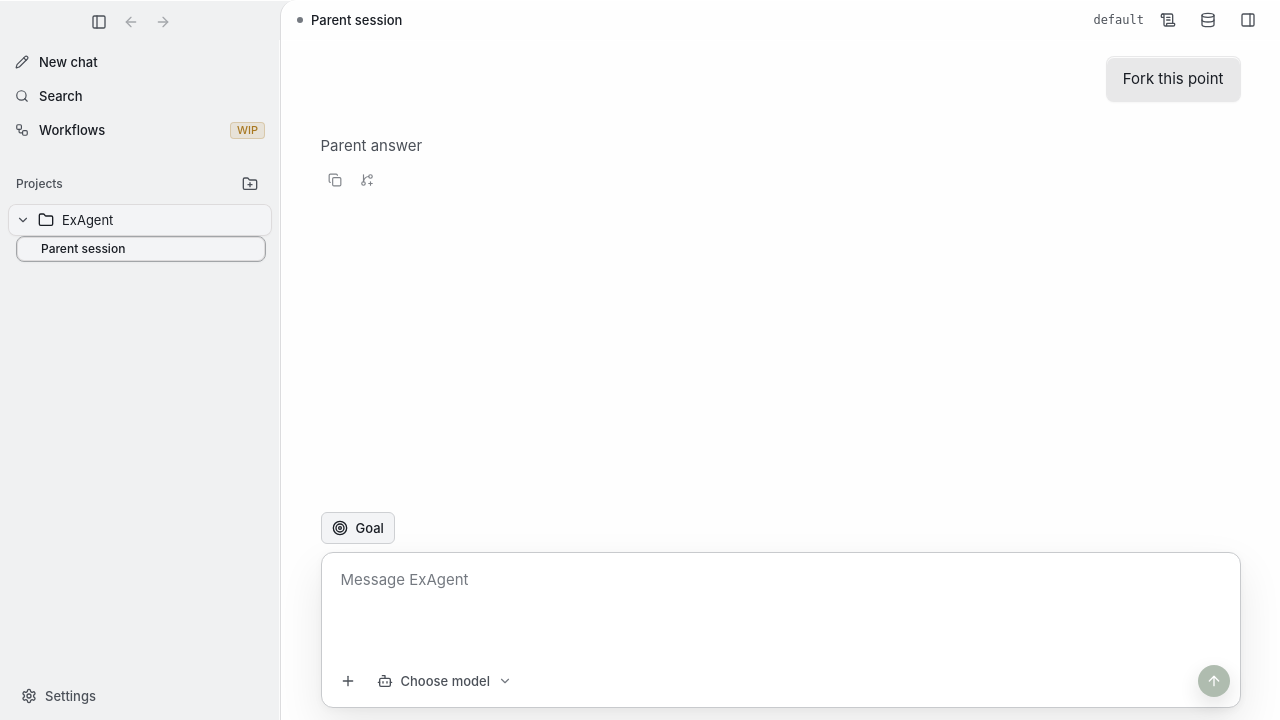
Test case: AppShell › forks a historical assistant reply and opens the new thread
Hover over the element named "User message" at coordinates (1173, 79), box [1106, 56, 1240, 102]
Hover over the element named "Assistant message" at coordinates (371, 165), box [320, 136, 422, 194]
expect the button named "Copy reply" is shown: met, box [320, 166, 348, 194]
Click the button named "Fork from this reply" at coordinates (366, 180), box [352, 166, 380, 194]
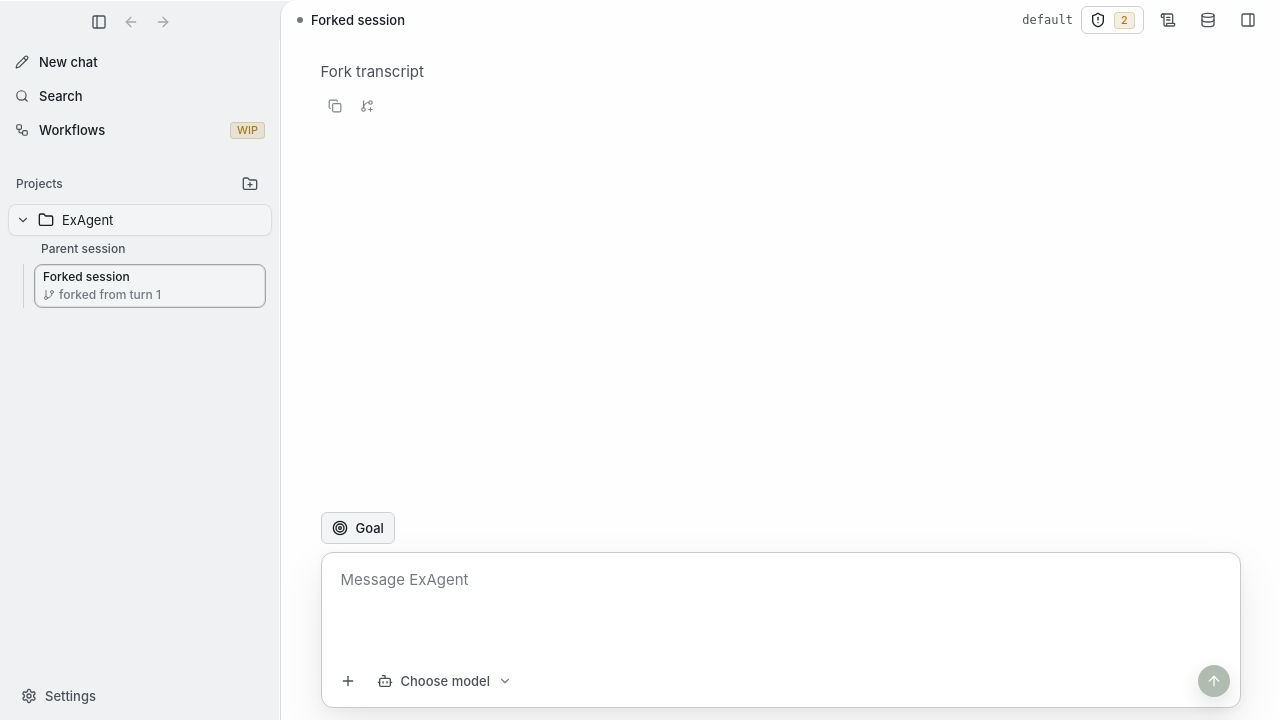
expect the text "Fork transcript" is shown: met, box [320, 62, 424, 81]
